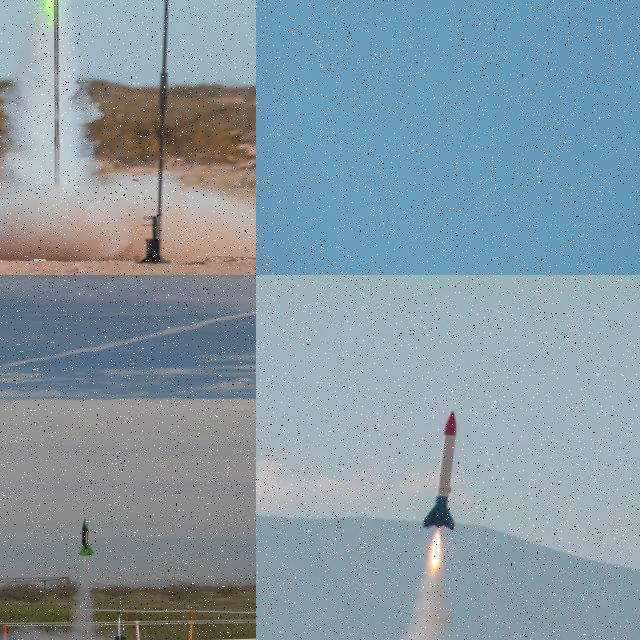Rocket: (422, 410, 458, 532), (78, 517, 95, 556), (114, 615, 126, 640)
